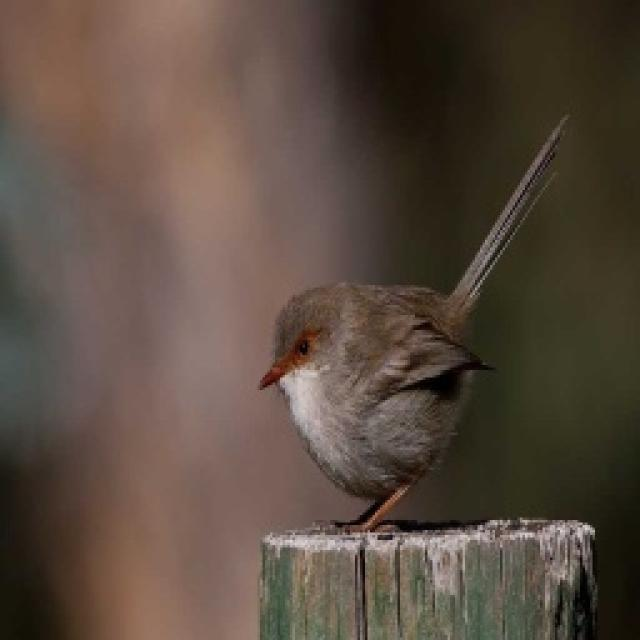sparrow: (252, 110, 570, 538)
